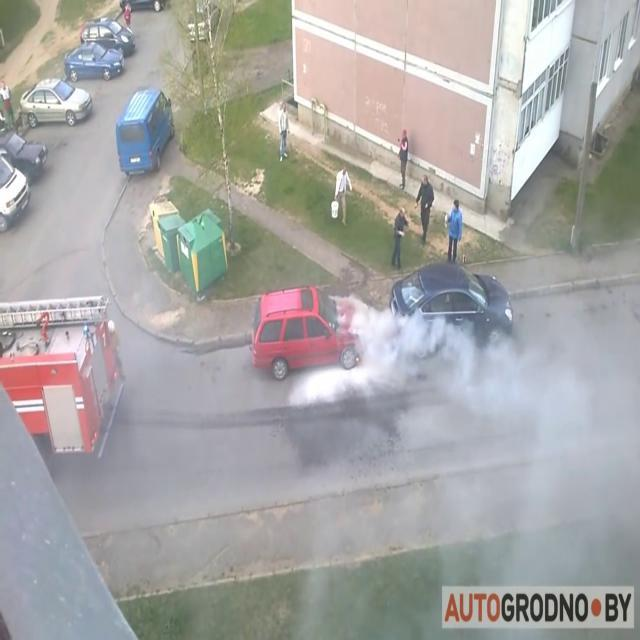Smoke: (122, 227, 637, 640)
